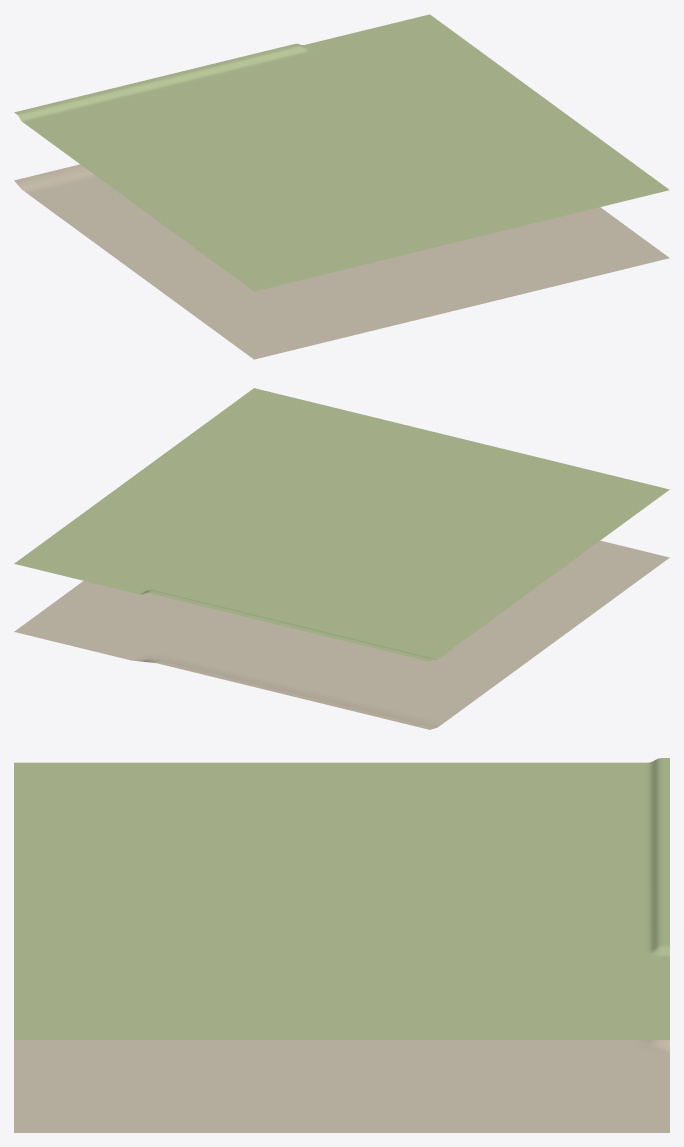
3 renders of one model, top to bottom at view 1: azimuth 30°, elevation 25°; view 2: azimuth 150°, elevation 25°; view 3: azimuth 270°, elevation 25°, orthographic. The views are drawn at different scales.
Visible parts, largest first — view 1: s_4_1__grass, s_4_1__soil; view 2: s_4_1__grass, s_4_1__soil; view 3: s_4_1__grass, s_4_1__soil.
Boxes of the visible parts, x1,y1,x2,y2 form: s_4_1__grass: [14, 14, 669, 291]; s_4_1__soil: [14, 164, 669, 359]; s_4_1__grass: [14, 388, 669, 661]; s_4_1__soil: [14, 540, 669, 729]; s_4_1__grass: [14, 758, 669, 1039]; s_4_1__soil: [14, 1040, 669, 1132].
Bounding box in the file's own units: 128 × 21.01 × 128.
